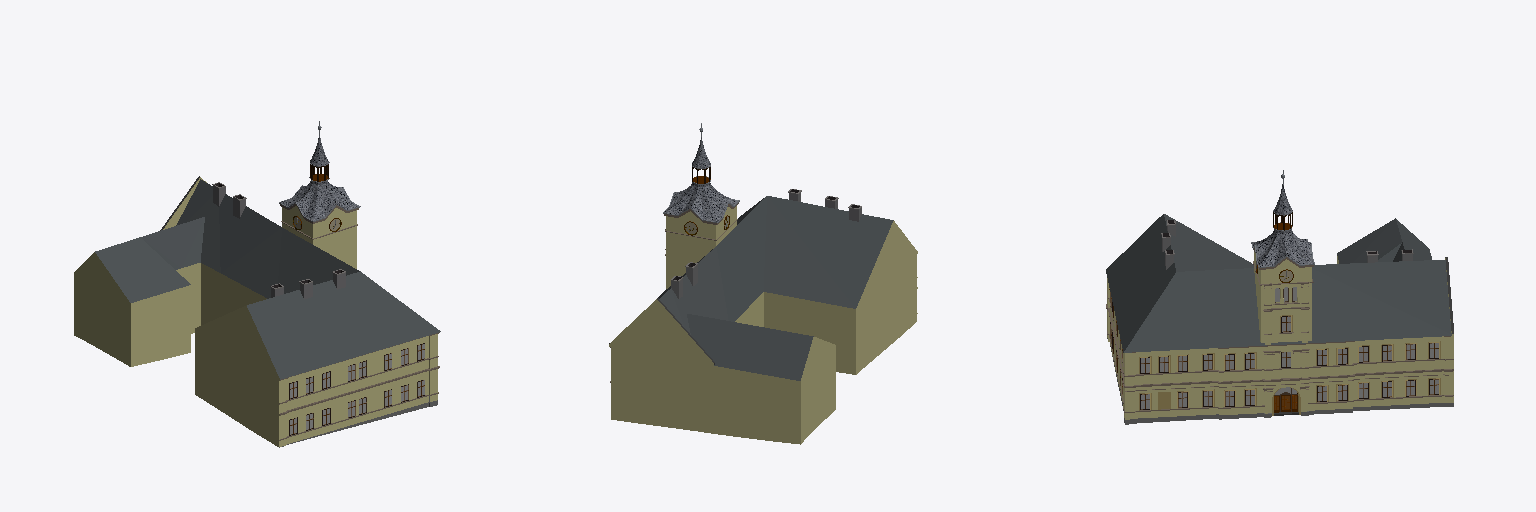
The picture shows the model from 3 angles: view 1: azimuth 30°, elevation 25°; view 2: azimuth 150°, elevation 25°; view 3: azimuth 270°, elevation 25°; orthographic projection.
Visible parts, largest first — view 1: Mesh01; view 2: Mesh01; view 3: Mesh01.
Boxes of the visible parts, box(x1,y1,x2,y2) form: Mesh01: box(74, 130, 440, 447); Mesh01: box(609, 132, 917, 444); Mesh01: box(1106, 179, 1453, 424).
Size of the model in its own units: 2.82 by 2.96 by 3.97.
26 materials, 1 textured.